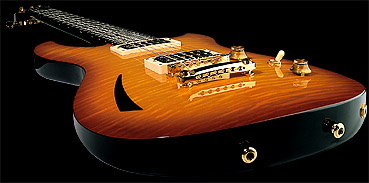guitar: (5, 5, 367, 179)
